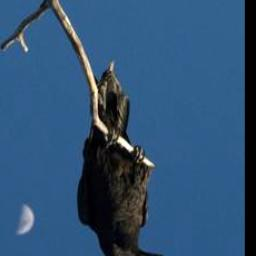Crow: (76, 58, 166, 256)
